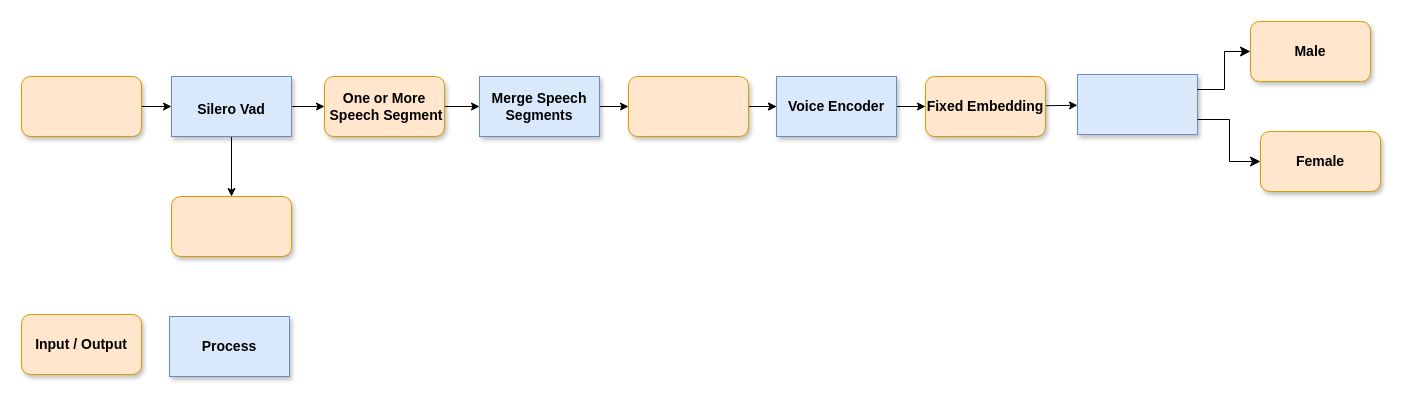
The diagram is 1404 pixels wide and 401 high, and some of its shapes have lost their labels. Each missing label, with the centre of its shape:
Audio File: point (82, 108)
FNN (2 Layers): point (1138, 106)
No Speech Segment: point (232, 228)
One Speech Segment: point (689, 108)
